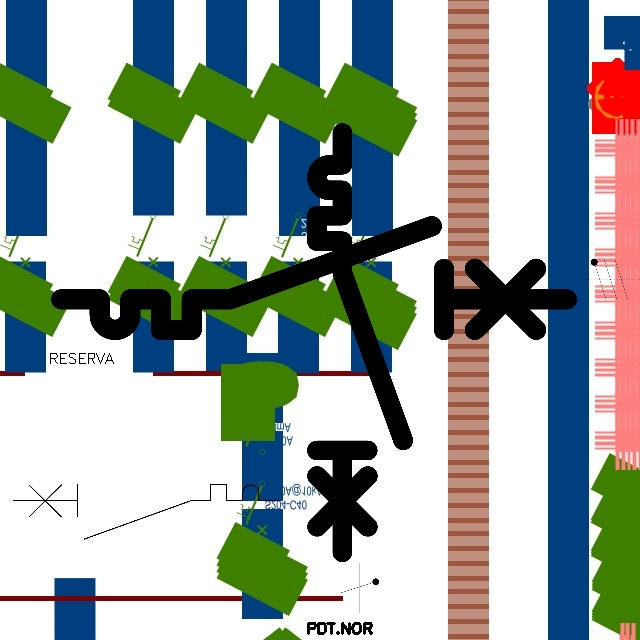interruptor_termomagnetico: (48, 213, 580, 343), (306, 122, 414, 563), (6, 478, 286, 546)
